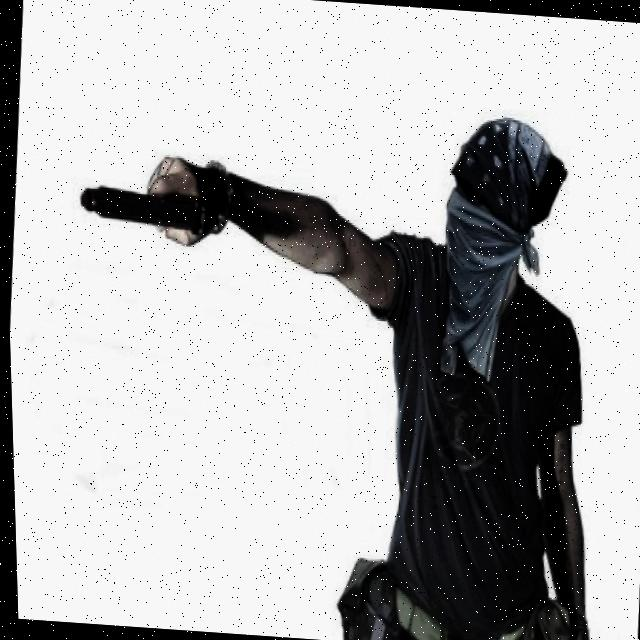pistol: (75, 182, 200, 236)
